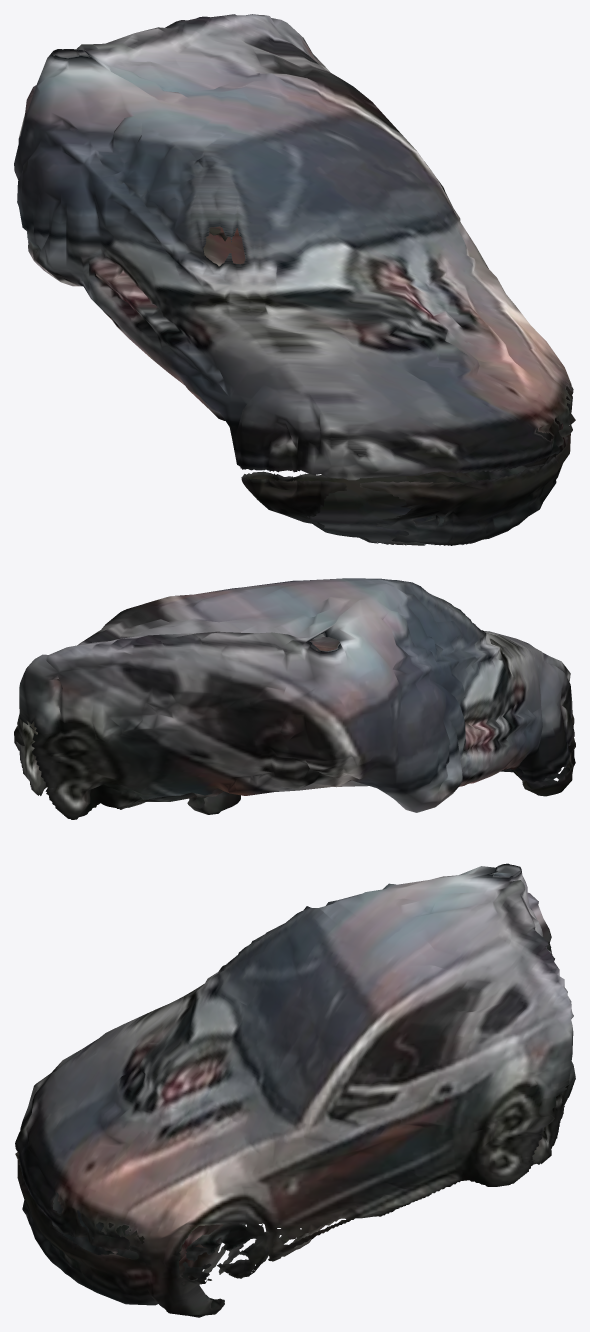
The model's file is musclecar.glb.
3 views of the same model, one above another, from view 1: azimuth 30°, elevation 25°; view 2: azimuth 150°, elevation 25°; view 3: azimuth 270°, elevation 25° (orthographic). The views are drawn at different scales.
Visible parts, largest first — view 1: musclecar.glb; view 2: musclecar.glb; view 3: musclecar.glb.
Boxes of the visible parts, x1,y1,x2,y2 form: musclecar.glb: (14,14,575,545); musclecar.glb: (14,578,575,819); musclecar.glb: (15,863,575,1317).
Bounding box in the file's own units: 0.5298 × 0.4675 × 0.732.
Materials: 1 (1 with a texture image).
